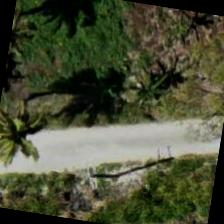Kelapa_Sawit: (0, 84, 69, 184)
